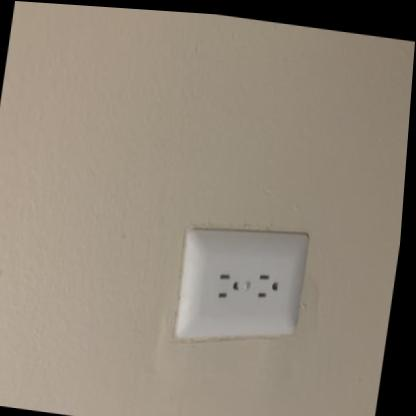OUTLET: (172, 221, 309, 342)
